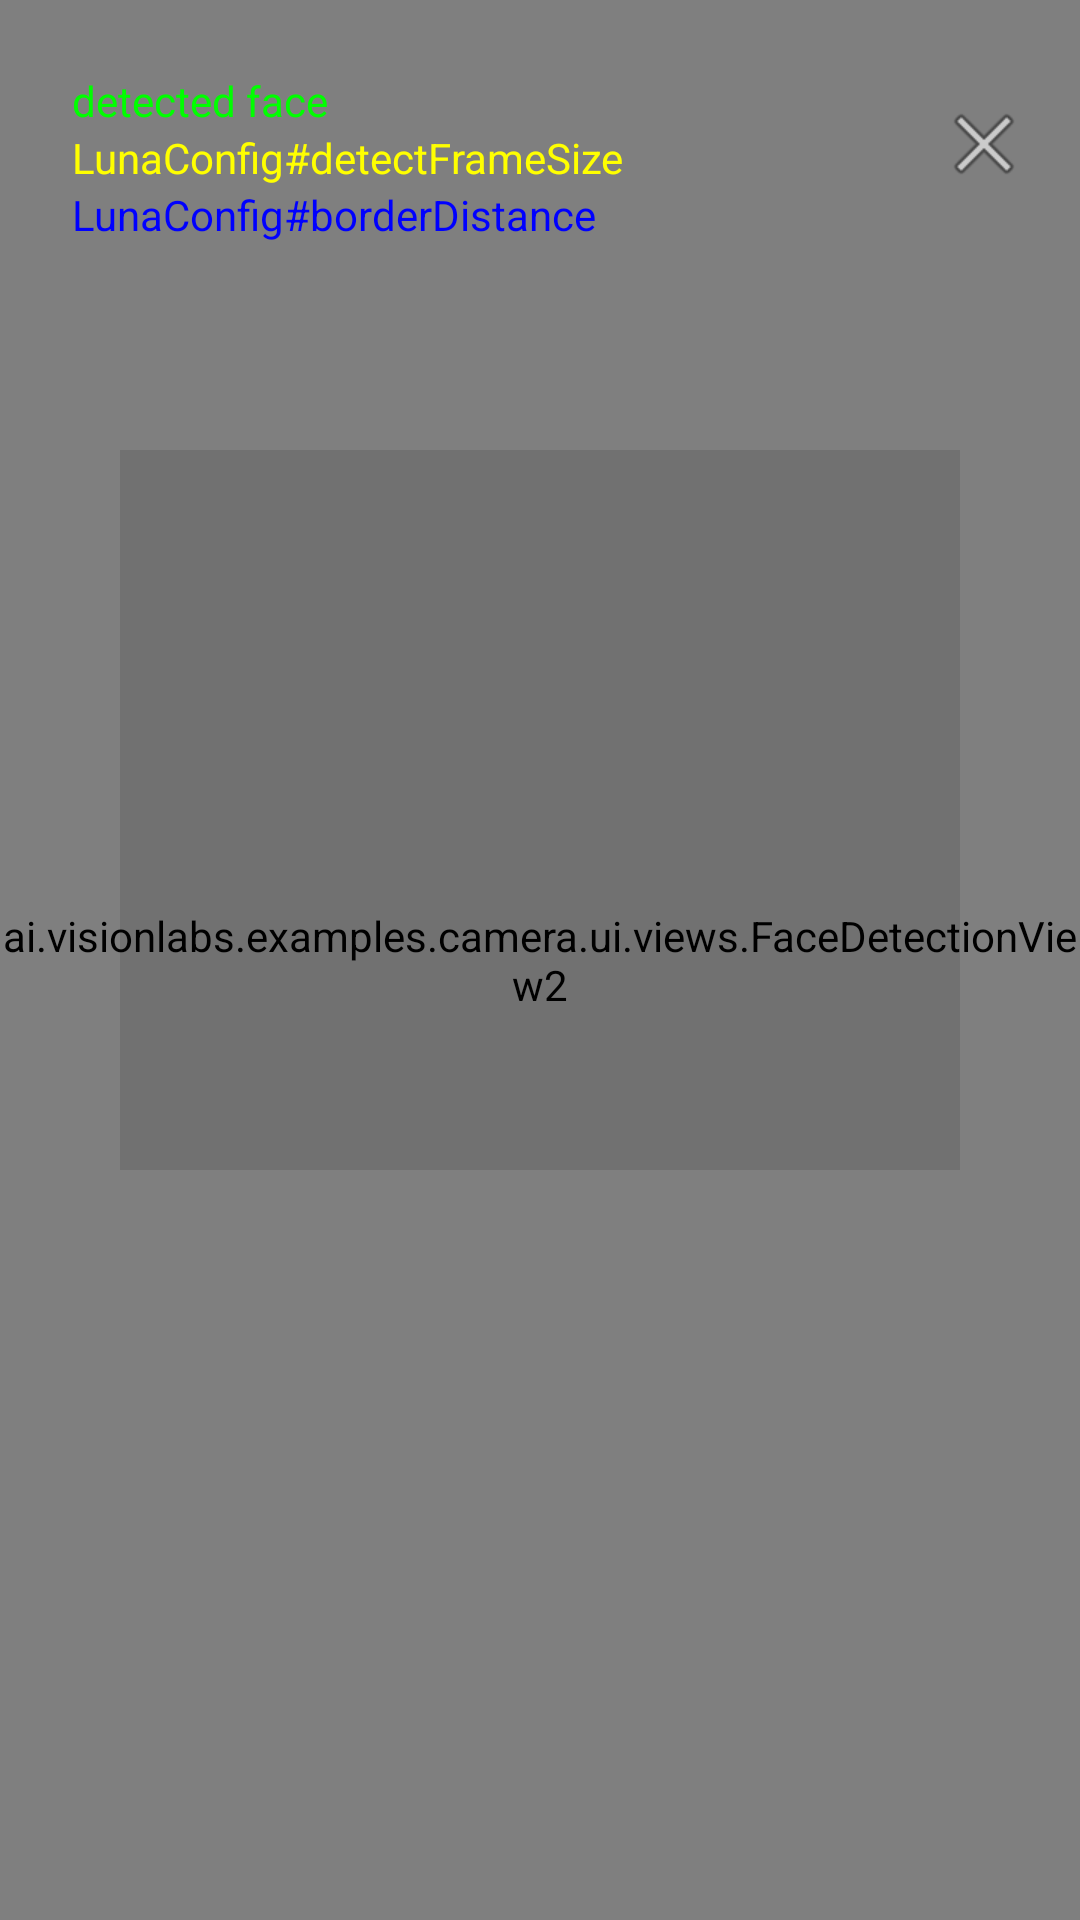

Icons on this 1080x1920 Android screen, each with its box as (x1,y1,x2,y2):
close clear cancel: (954,114,1014,174)
